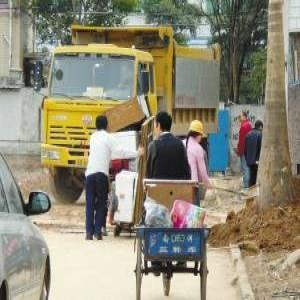none: (152, 110, 174, 140), (94, 112, 110, 136), (238, 110, 249, 125), (254, 118, 265, 133)
yellow: (188, 118, 205, 145)
